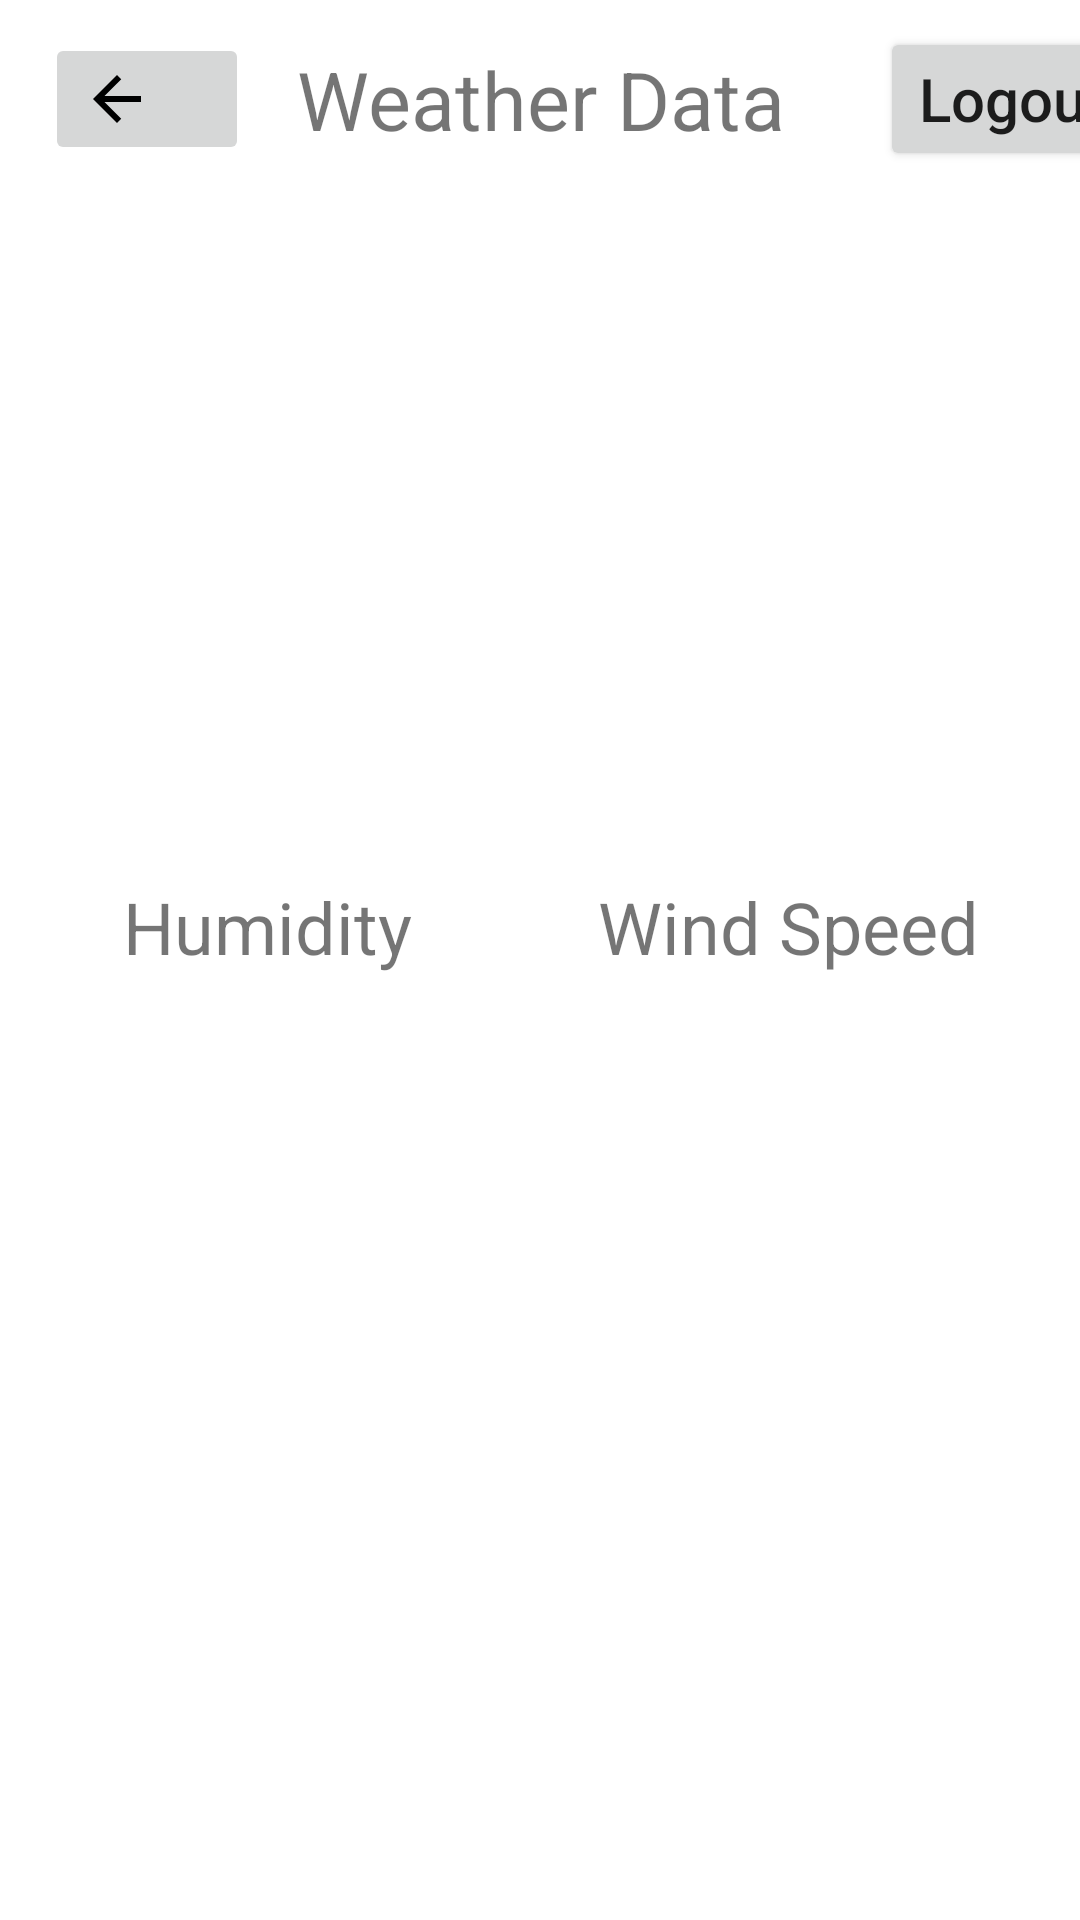

Where to tap for icons on this 1080 × 1920 app screen, as [x,y]:
arrow back: [147,99]
